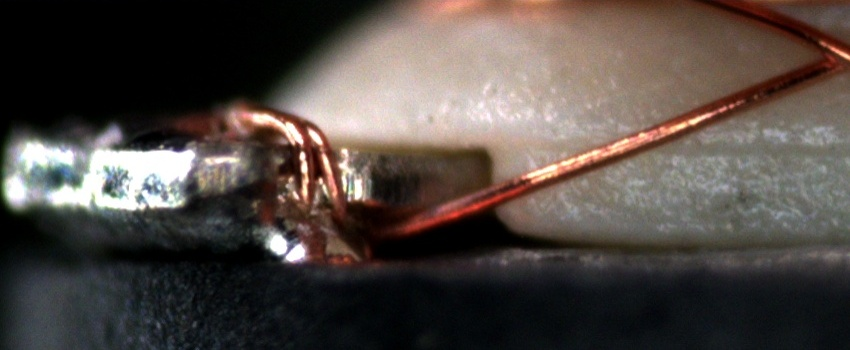CL: (794, 29, 850, 83)
DL: (535, 110, 850, 172)
TE: (227, 100, 352, 226)
